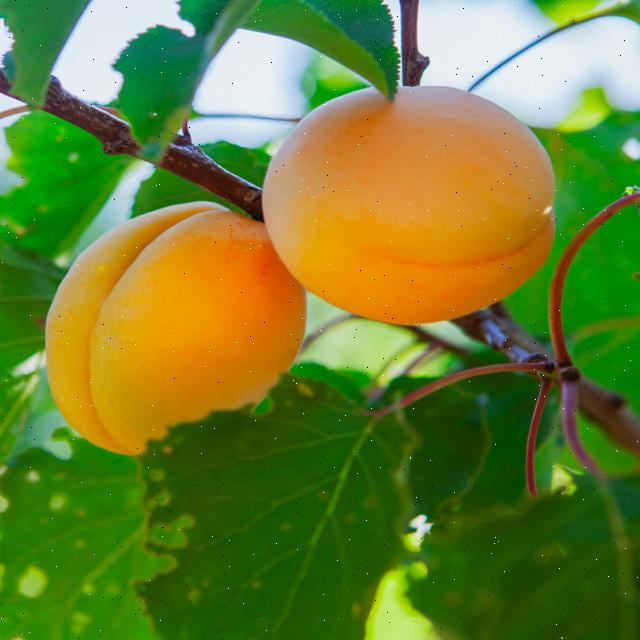Kayisi: (265, 87, 554, 324), (49, 202, 305, 453)
Yaprak: (136, 374, 407, 639)
